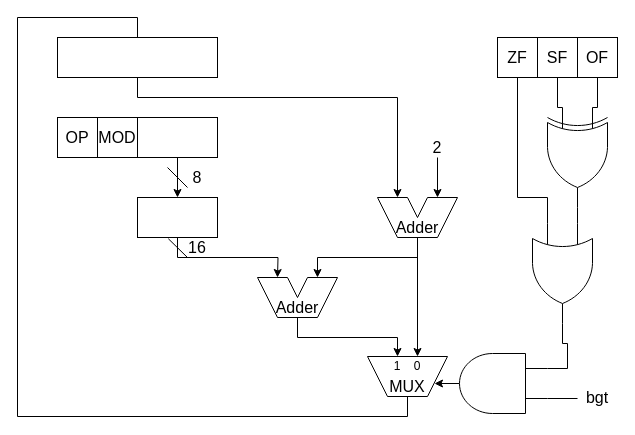
This 635x435 diagram has some shape labels left out. Each missing label, with the centre of its shape:
"Imm8" belongs at point (177, 137).
"PC" belongs at point (137, 57).
"符号扩展" belongs at point (177, 217).
